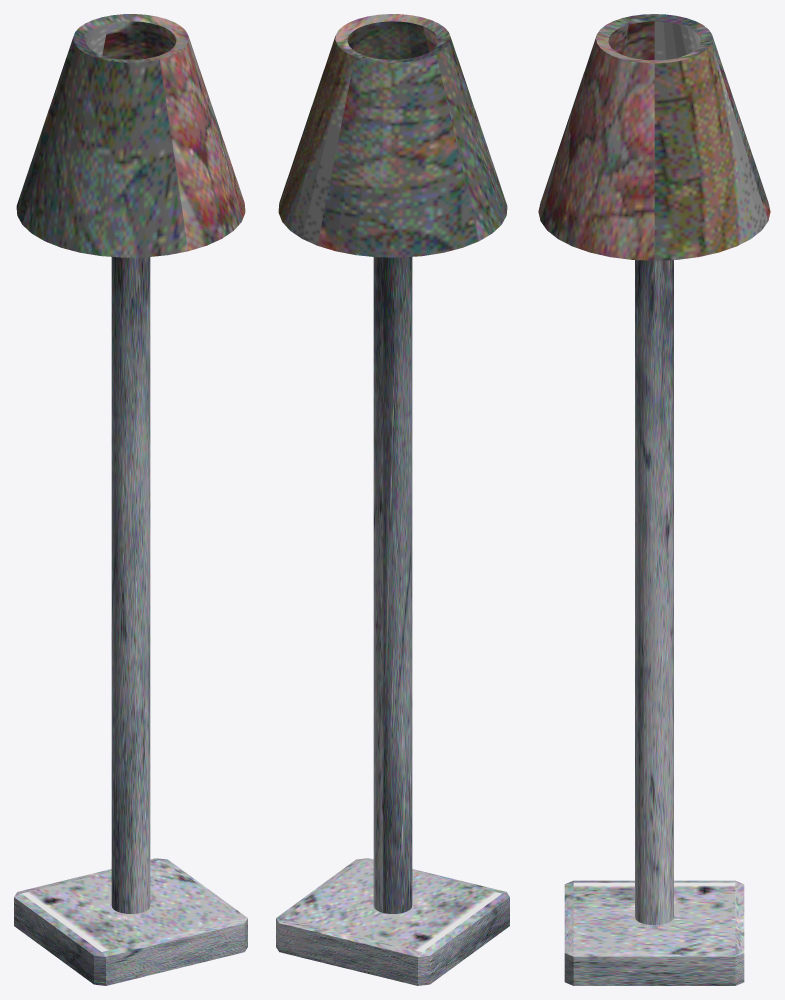
Rendered from Mylamplol.fbx.
3 renders of one model, left to right at view 1: azimuth 30°, elevation 25°; view 2: azimuth 150°, elevation 25°; view 3: azimuth 270°, elevation 25°, orthographic.
Parts seen in each view (by area): view 1: Cylinder.001, Cylinder, Cube; view 2: Cylinder.001, Cylinder, Cube; view 3: Cylinder.001, Cylinder, Cube.
Part boxes in pixels (x1,y1,x2,y2): Cylinder.001: (16, 14, 245, 257); Cylinder: (111, 257, 150, 913); Cube: (14, 858, 247, 985); Cylinder.001: (278, 14, 507, 257); Cylinder: (373, 257, 412, 913); Cube: (276, 858, 509, 985); Cylinder.001: (538, 14, 770, 260); Cylinder: (635, 260, 673, 925); Cube: (564, 880, 744, 985).
Bounding box in the file's own units: 258 × 1117 × 258.
